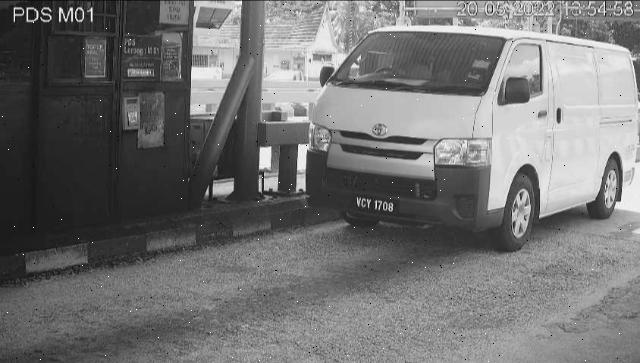License_Plate: (352, 193, 403, 219)
van: (308, 27, 639, 253)
